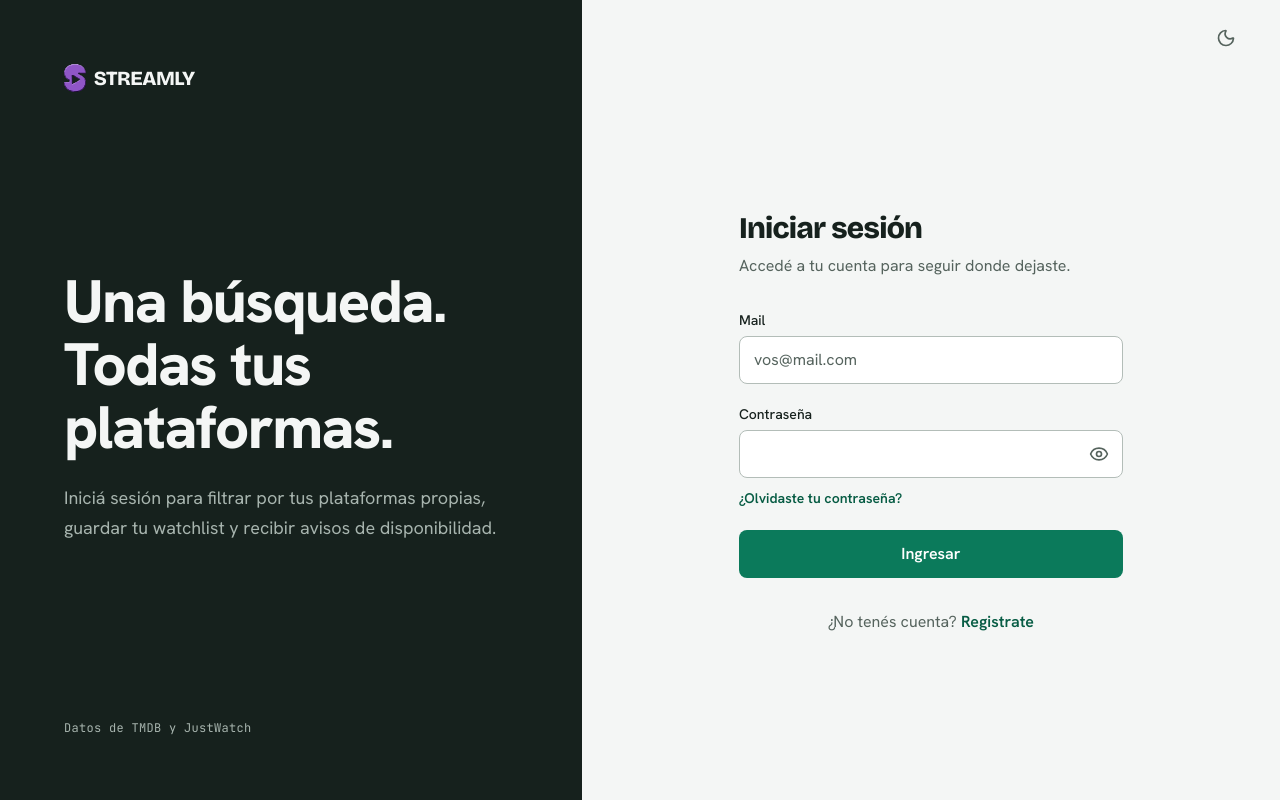
Test case: Inicio de sesión (E4HU2) › inicia sesión y lleva al inicio
The image size is (1280, 800).
Type "ana@mail.com" into the field labelled "Mail" at point(931, 360), box [739, 336, 1123, 384]
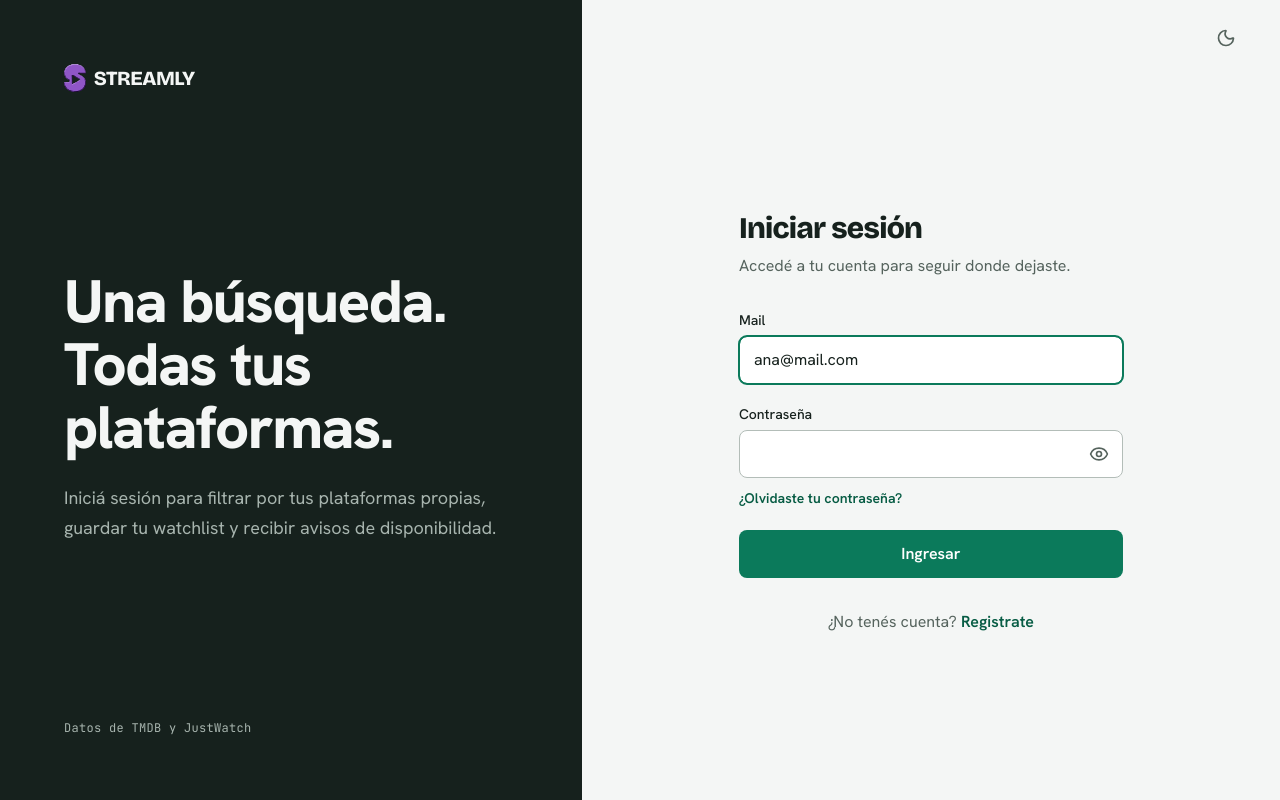
Type "Segura#2026" into the password field labelled "Contraseña" at point(931, 454), box [739, 430, 1123, 478]
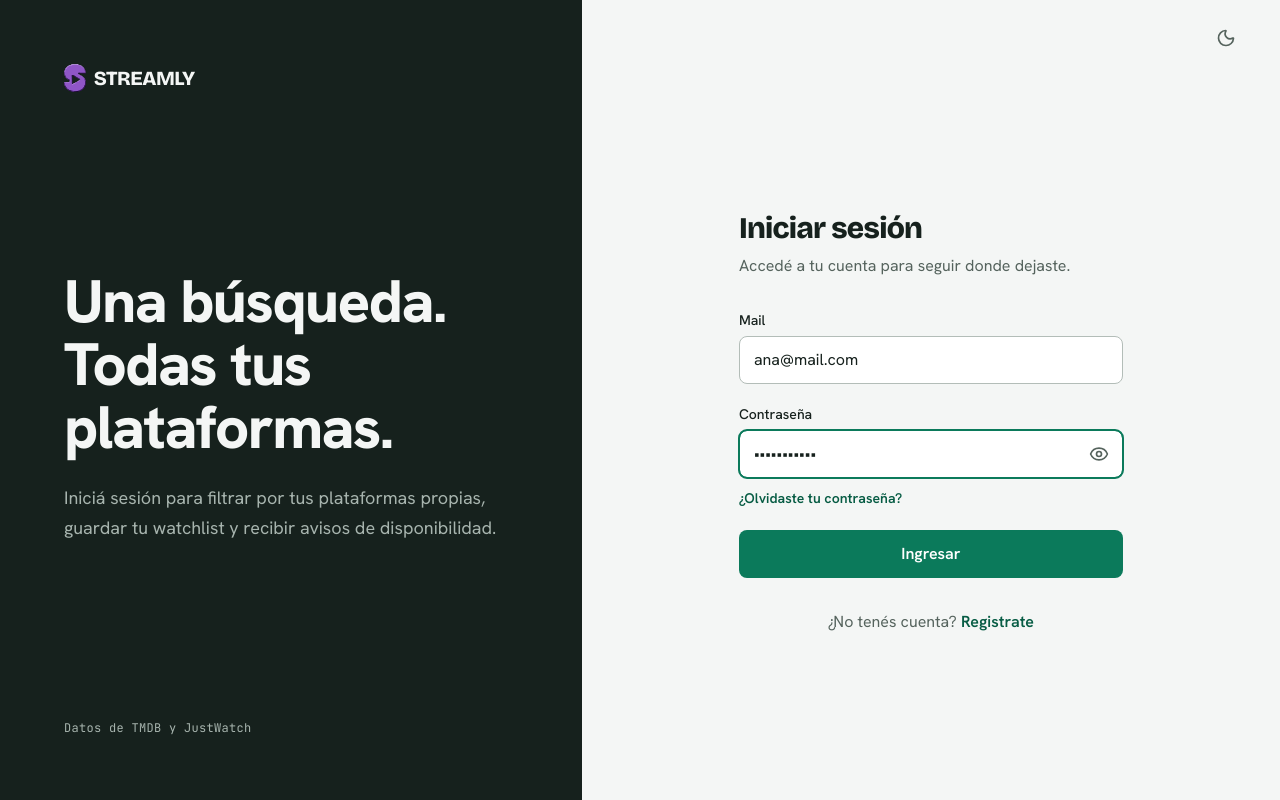
Click the button "Ingresar" at point(931, 554), box [739, 530, 1123, 578]
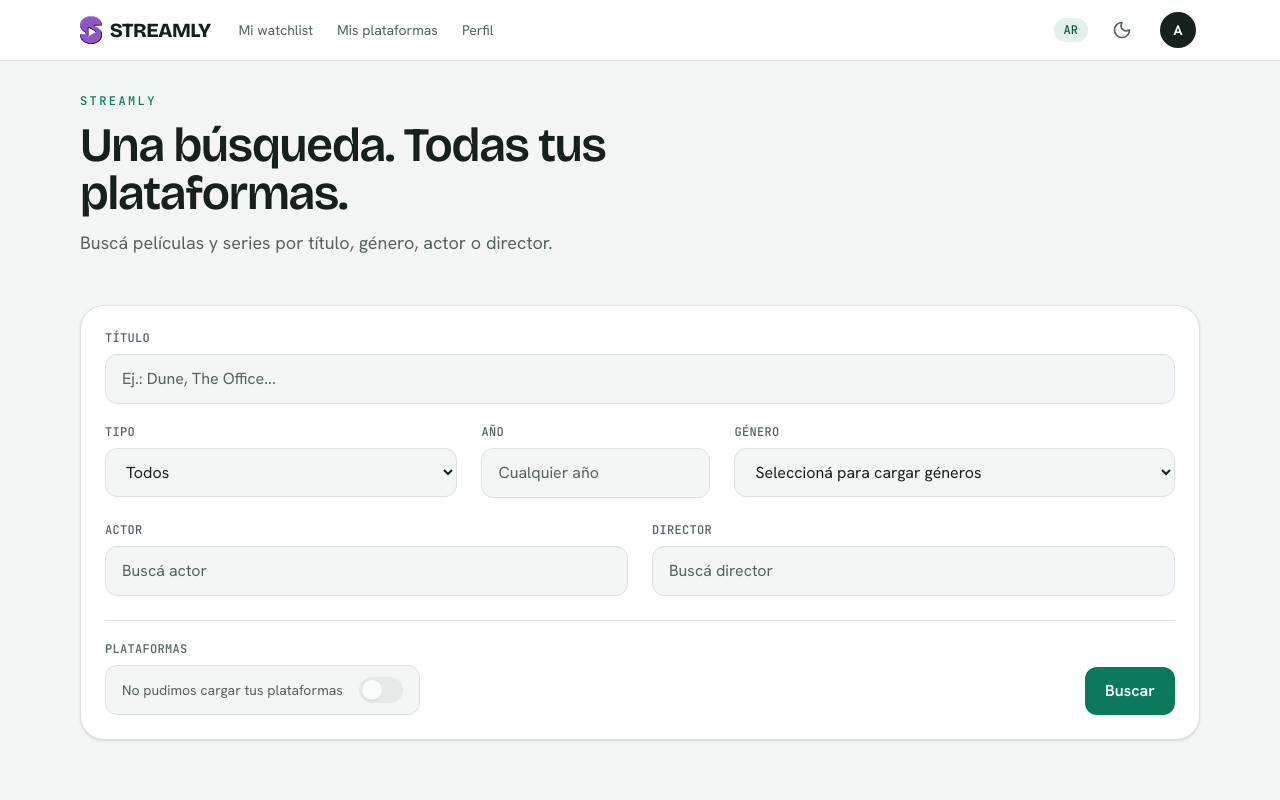
Now the heading "Una búsqueda. Todas tus plataformas." is shown, box [80, 116, 606, 222]
Now the button named "Menú de la cuenta de ana@mail.com" is shown, box [1156, 8, 1200, 52]
